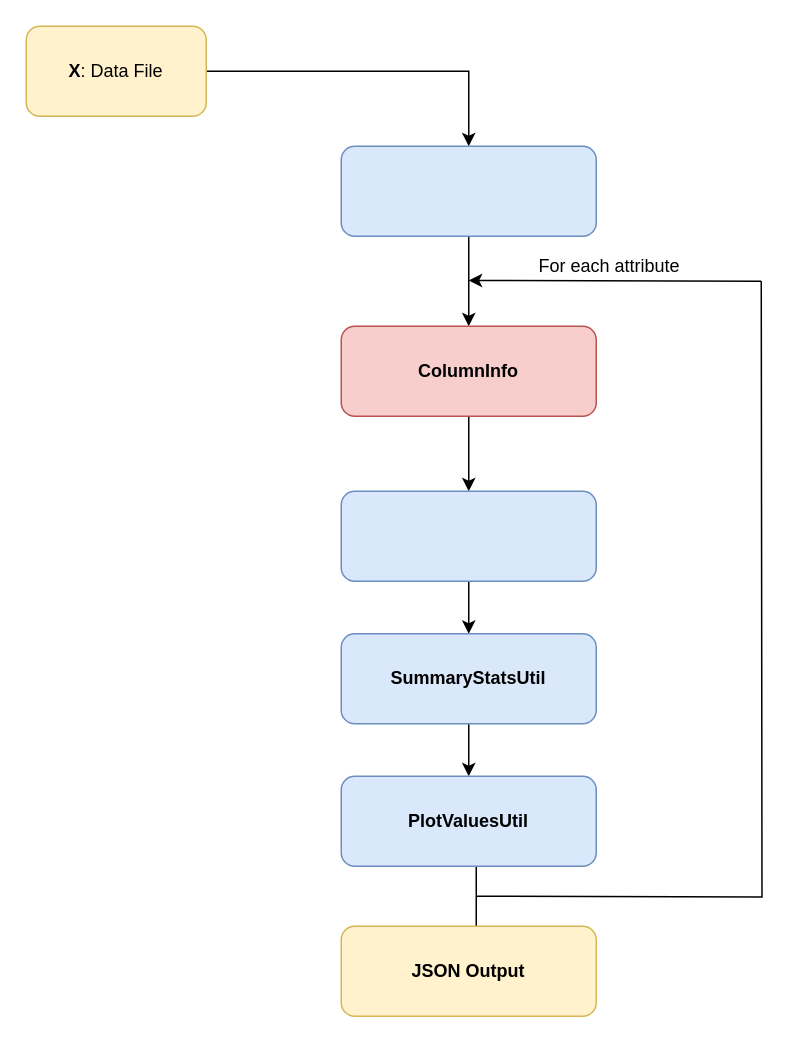
Some shapes in this 800 by 1043 pixel diagram are drawn without their labels. Here are the shapes that lost their labels. From the top down, the centre of each, then its label:
At (x=468, y=190): "PreprocessRunner".
At (x=468, y=535): "TypeGuessUtil".
